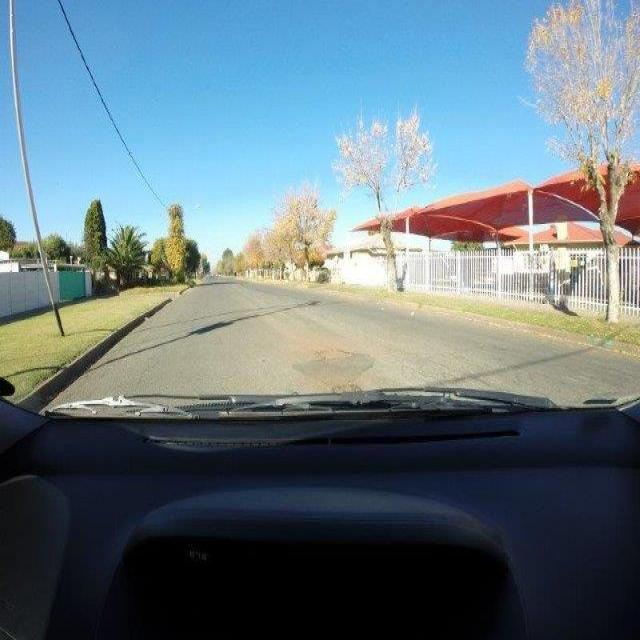jalan retak: (392, 352, 526, 386)
lubang: (307, 339, 348, 364), (316, 374, 363, 391)
